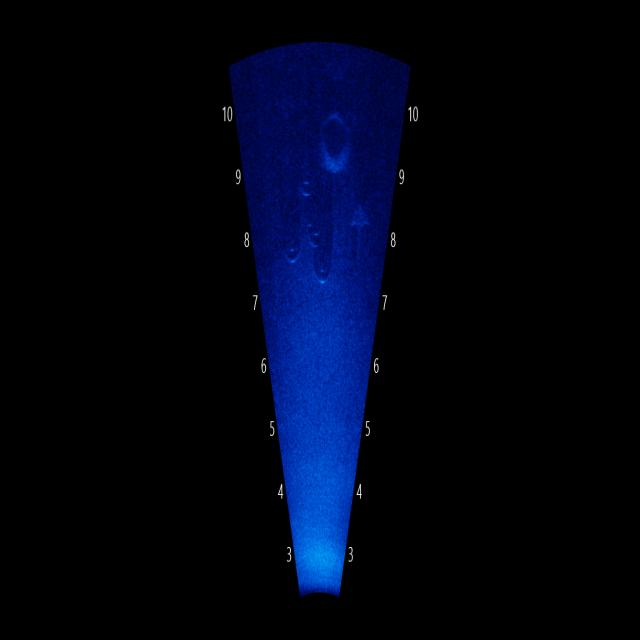circle: (316, 94, 356, 184), (310, 236, 338, 297), (277, 218, 308, 273), (294, 150, 322, 208)
